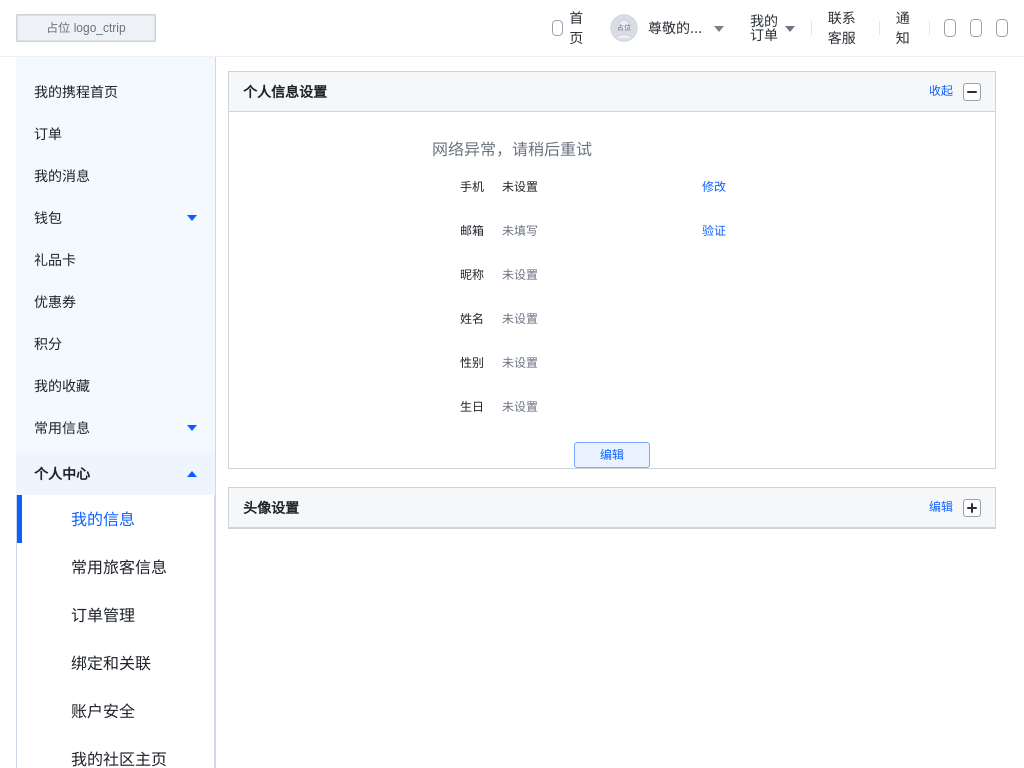
个人中心 - 个人信息页 场景用例 › 导航: 点击“编辑”跳转到个人信息编辑页
Click the link "编辑" at point(612, 455), box x1=574 y1=442 x2=650 y2=468
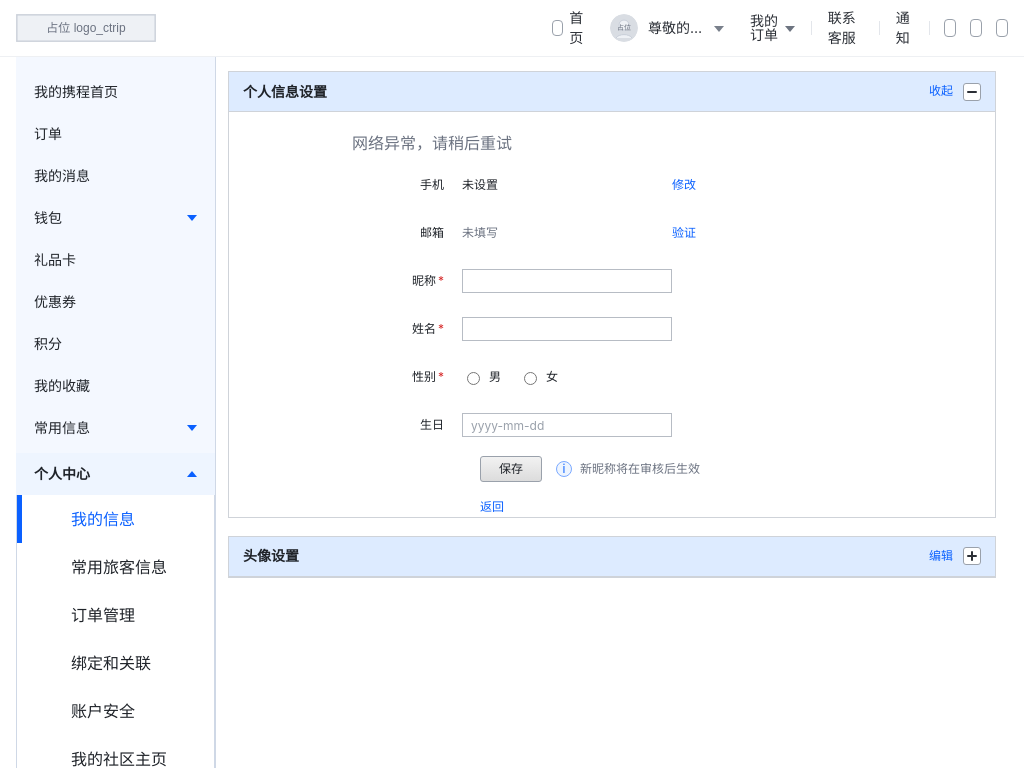
Result: the button "保存" is shown at x1=480 y1=456 x2=542 y2=482
